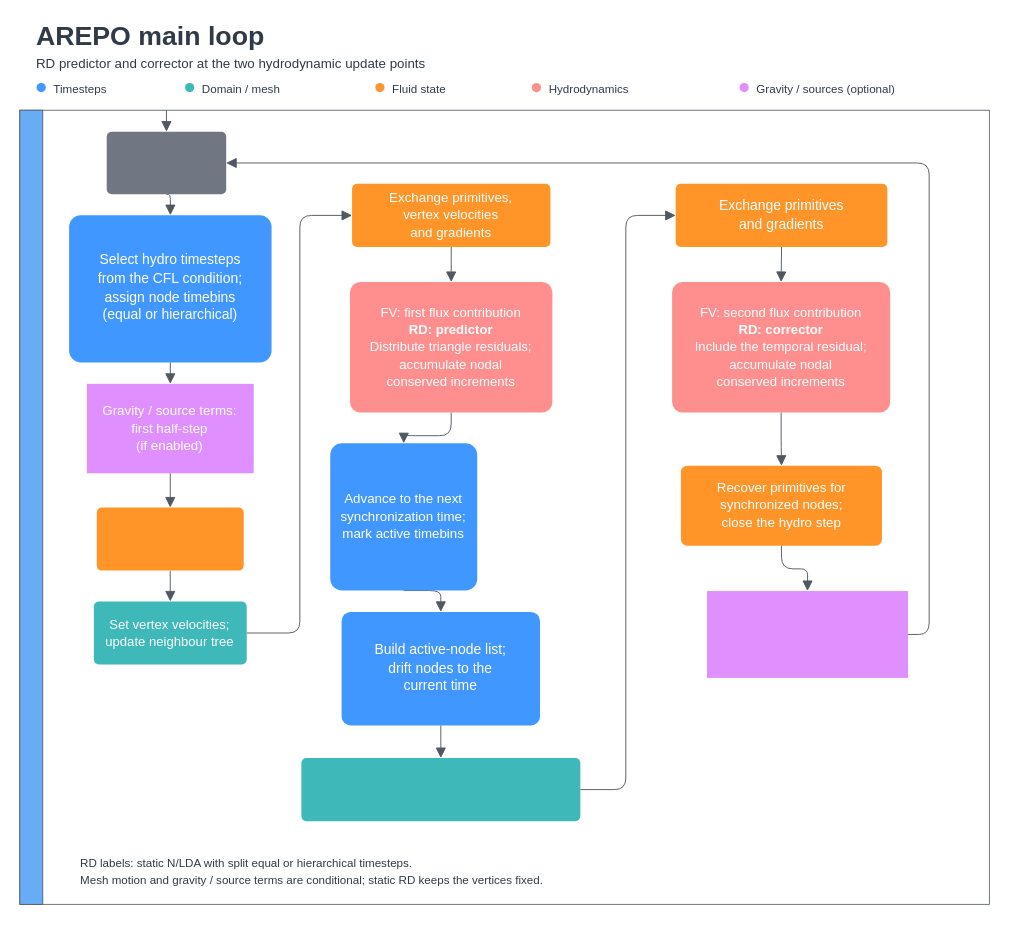
Image size: 1010x925. Some labels were removed from this diagram. Each missing label, with the centre of its shape:
Exchange primitives; calculate gradients: (x=169, y=538)
Gravity / source terms: second half-step (if enabled): (x=806, y=633)
Main loop: (x=31, y=506)
Update domain / tree (when due); construct or rebuild mesh (if needed): (x=440, y=789)
Write outputs; stop at final time: (x=166, y=162)
